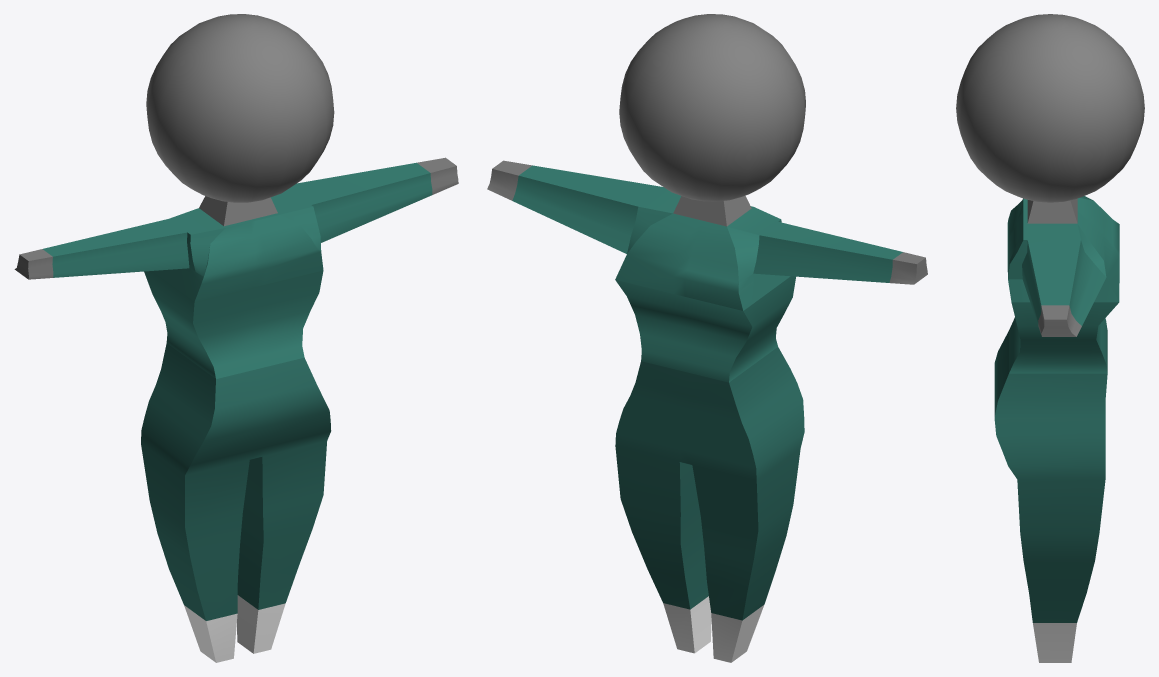
Rendered from woman_2.obj.
3 renders of one model, left to right at view 1: azimuth 30°, elevation 25°; view 2: azimuth 150°, elevation 25°; view 3: azimuth 270°, elevation 25°, orthographic.
Visible parts, largest first — view 1: pSphere5; view 2: pSphere5; view 3: pSphere5.
Boxes of the visible parts, box(x1,y1,x2,y2) form: pSphere5: box(14, 14, 458, 662); pSphere5: box(487, 14, 927, 662); pSphere5: box(956, 14, 1144, 662).
Bounding box in the file's own units: 5.23 × 7.34 × 2.
